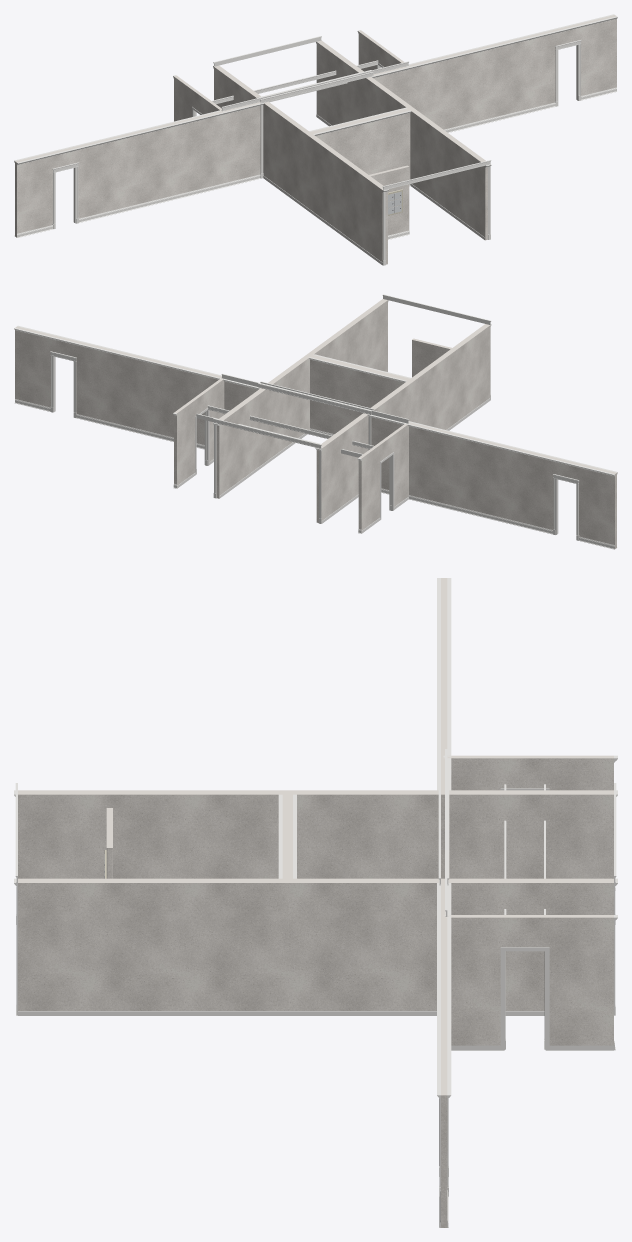
Rendered from walls_g.glb.
3 renders of one model, top to bottom at view 1: azimuth 30°, elevation 25°; view 2: azimuth 150°, elevation 25°; view 3: azimuth 270°, elevation 25°, orthographic. The views are drawn at different scales.
Parts seen in each view (by area): view 1: walls_g_plaster, molduras, walls_g_trim; view 2: walls_g_plaster, molduras, walls_g_trim; view 3: walls_g_plaster, molduras, walls_g_trim.
Boxes of the visible parts, x1=… form: walls_g_plaster: x1=15, y1=15, x2=616, y2=264; molduras: x1=14, y1=14, x2=617, y2=265; walls_g_trim: x1=55, y1=45, x2=578, y2=264; walls_g_plaster: x1=15, y1=299, x2=616, y2=548; molduras: x1=14, y1=294, x2=617, y2=549; walls_g_trim: x1=53, y1=356, x2=576, y2=534; walls_g_plaster: x1=18, y1=578, x2=613, y2=1227; molduras: x1=14, y1=578, x2=617, y2=1227; walls_g_trim: x1=18, y1=788, x2=613, y2=1050.
Bounding box in the file's own units: 23.4 × 2.95 × 11.55.
5 materials, 1 textured.
